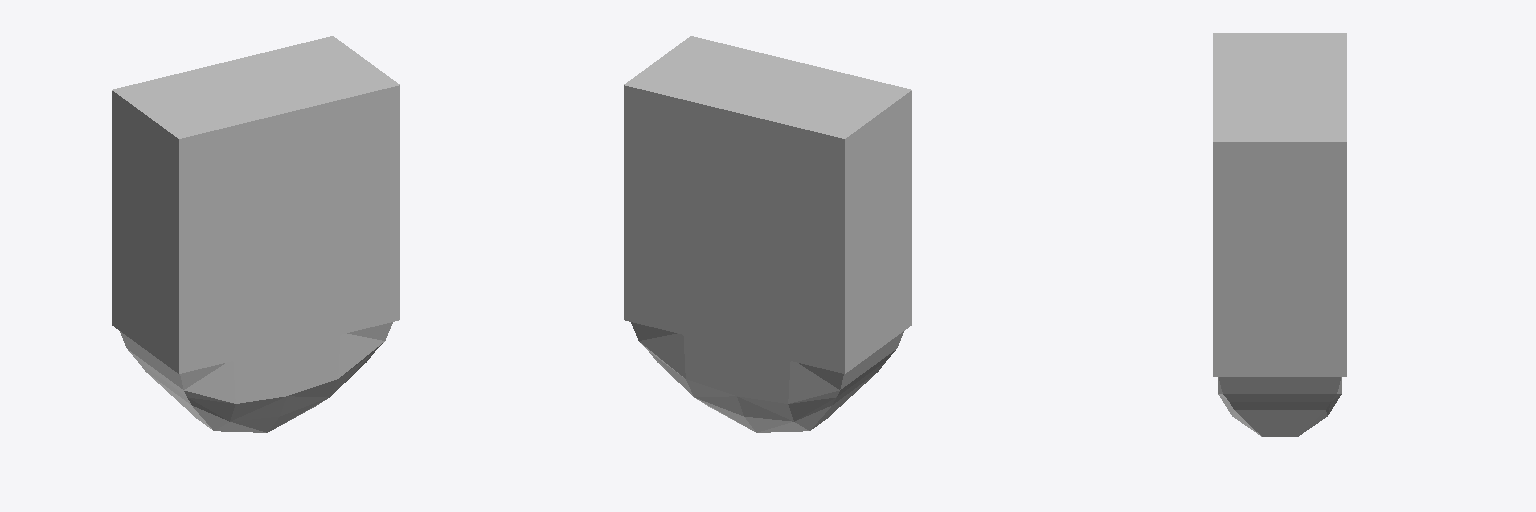
Rendered from eraser.obj.
The picture shows the model from 3 angles: view 1: azimuth 30°, elevation 25°; view 2: azimuth 150°, elevation 25°; view 3: azimuth 270°, elevation 25°; orthographic projection.
Visible parts, largest first — view 1: 立方体; view 2: 立方体; view 3: 立方体.
Part boxes in pixels (x1,y1,x2,y2): 立方体: (112, 36, 399, 432); 立方体: (624, 36, 911, 432); 立方体: (1213, 33, 1346, 436).
Bounding box in the file's own units: 2.06 × 3 × 1.09.